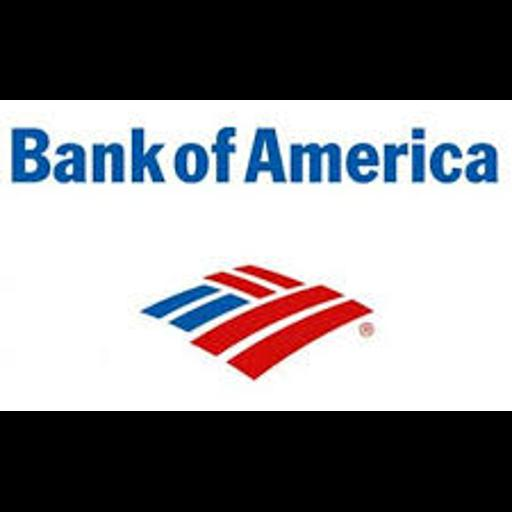Bank of America: (0, 100, 512, 411)
